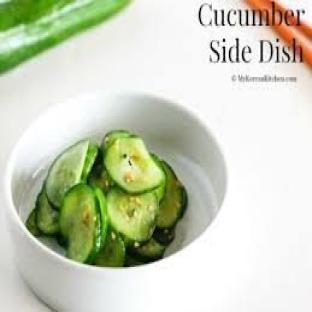Cucumber: (104, 137, 165, 194), (60, 184, 103, 263), (46, 140, 92, 207), (108, 189, 159, 241), (157, 161, 186, 228), (94, 229, 125, 266), (88, 152, 113, 194), (37, 187, 59, 234), (129, 239, 166, 262), (94, 189, 108, 244), (81, 142, 98, 181), (103, 131, 131, 151), (26, 208, 40, 236), (153, 229, 174, 246), (156, 176, 166, 204), (126, 255, 143, 266)
